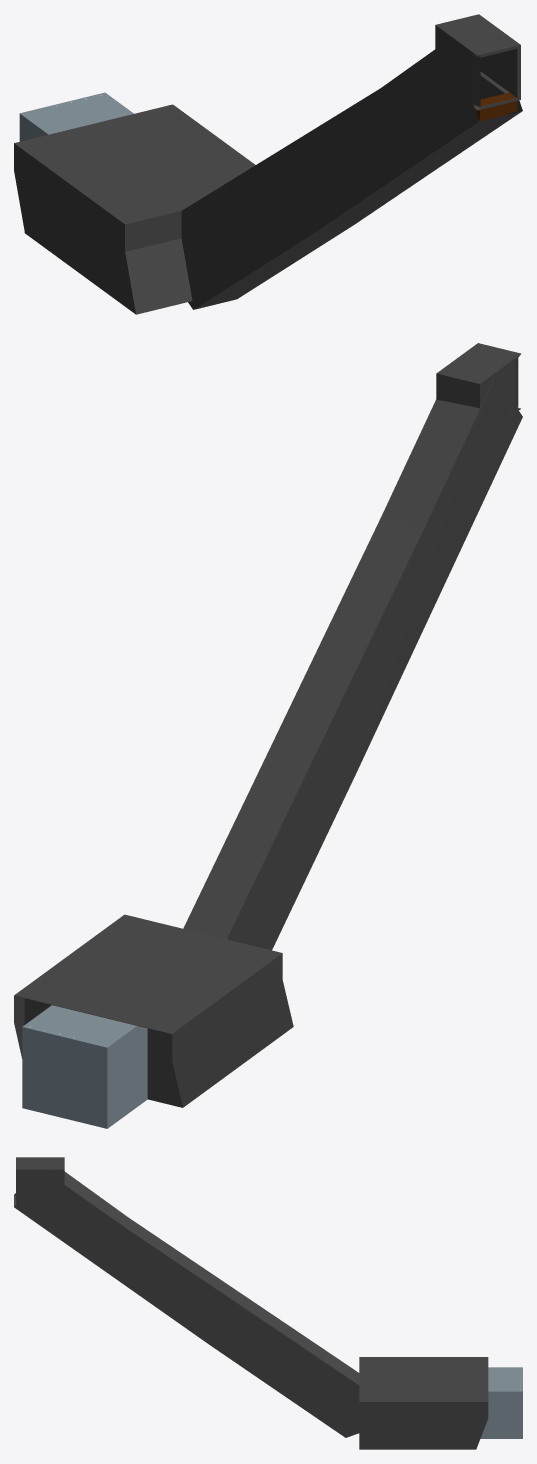
File: Basement.glb
3 renders of one model, top to bottom at view 1: azimuth 30°, elevation 25°; view 2: azimuth 150°, elevation 25°; view 3: azimuth 270°, elevation 25°, orthographic. The views are drawn at different scales.
Visible parts, largest first — view 1: Cube.042, Cube.043, Cube.040, Cube.045, Cube.041; view 2: Cube.042, Cube.043, Cube.045, Cube.040; view 3: Cube.042, Cube.043, Cube.045, Cube.040.
Part boxes in pixels (bbox=[...]): Cube.042: bbox=[181, 39, 522, 309]; Cube.043: bbox=[14, 104, 255, 314]; Cube.040: bbox=[435, 14, 520, 110]; Cube.045: bbox=[19, 92, 133, 141]; Cube.041: bbox=[475, 92, 517, 121]; Cube.042: bbox=[183, 376, 522, 950]; Cube.043: bbox=[14, 914, 293, 1107]; Cube.045: bbox=[22, 1005, 147, 1128]; Cube.040: bbox=[436, 343, 520, 422]; Cube.042: bbox=[14, 1171, 359, 1437]; Cube.043: bbox=[359, 1357, 488, 1449]; Cube.045: bbox=[480, 1367, 522, 1438]; Cube.040: bbox=[16, 1157, 64, 1201].
Bounding box in the file's own units: 7.27 × 20.21 × 34.73.
